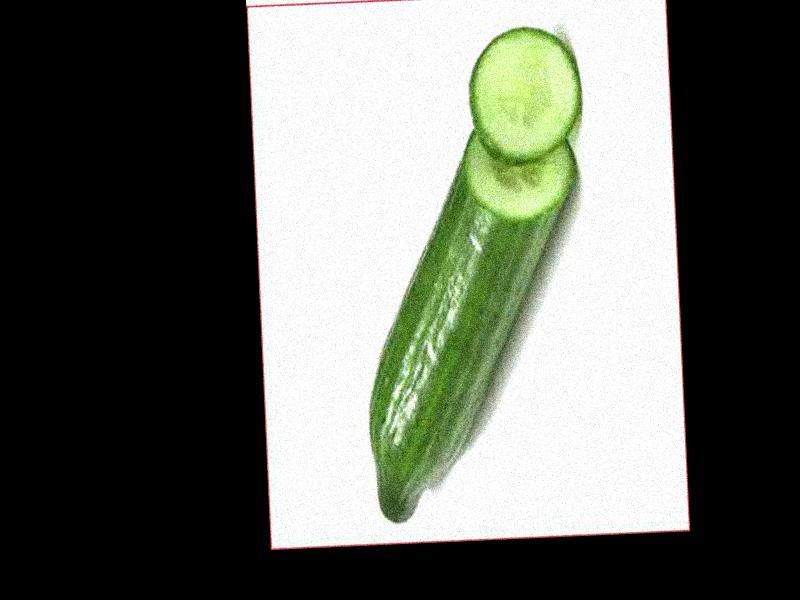Cucumber: (357, 119, 591, 525)
